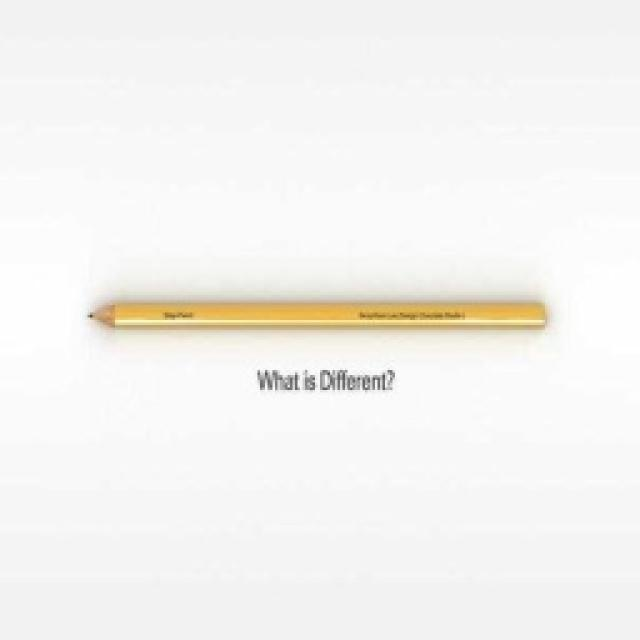pencil: (85, 298, 547, 332)
